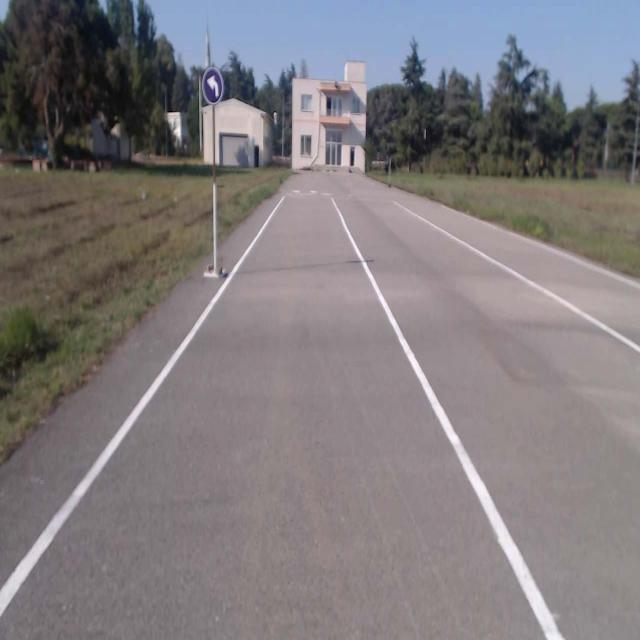sol: (202, 65, 224, 106)
